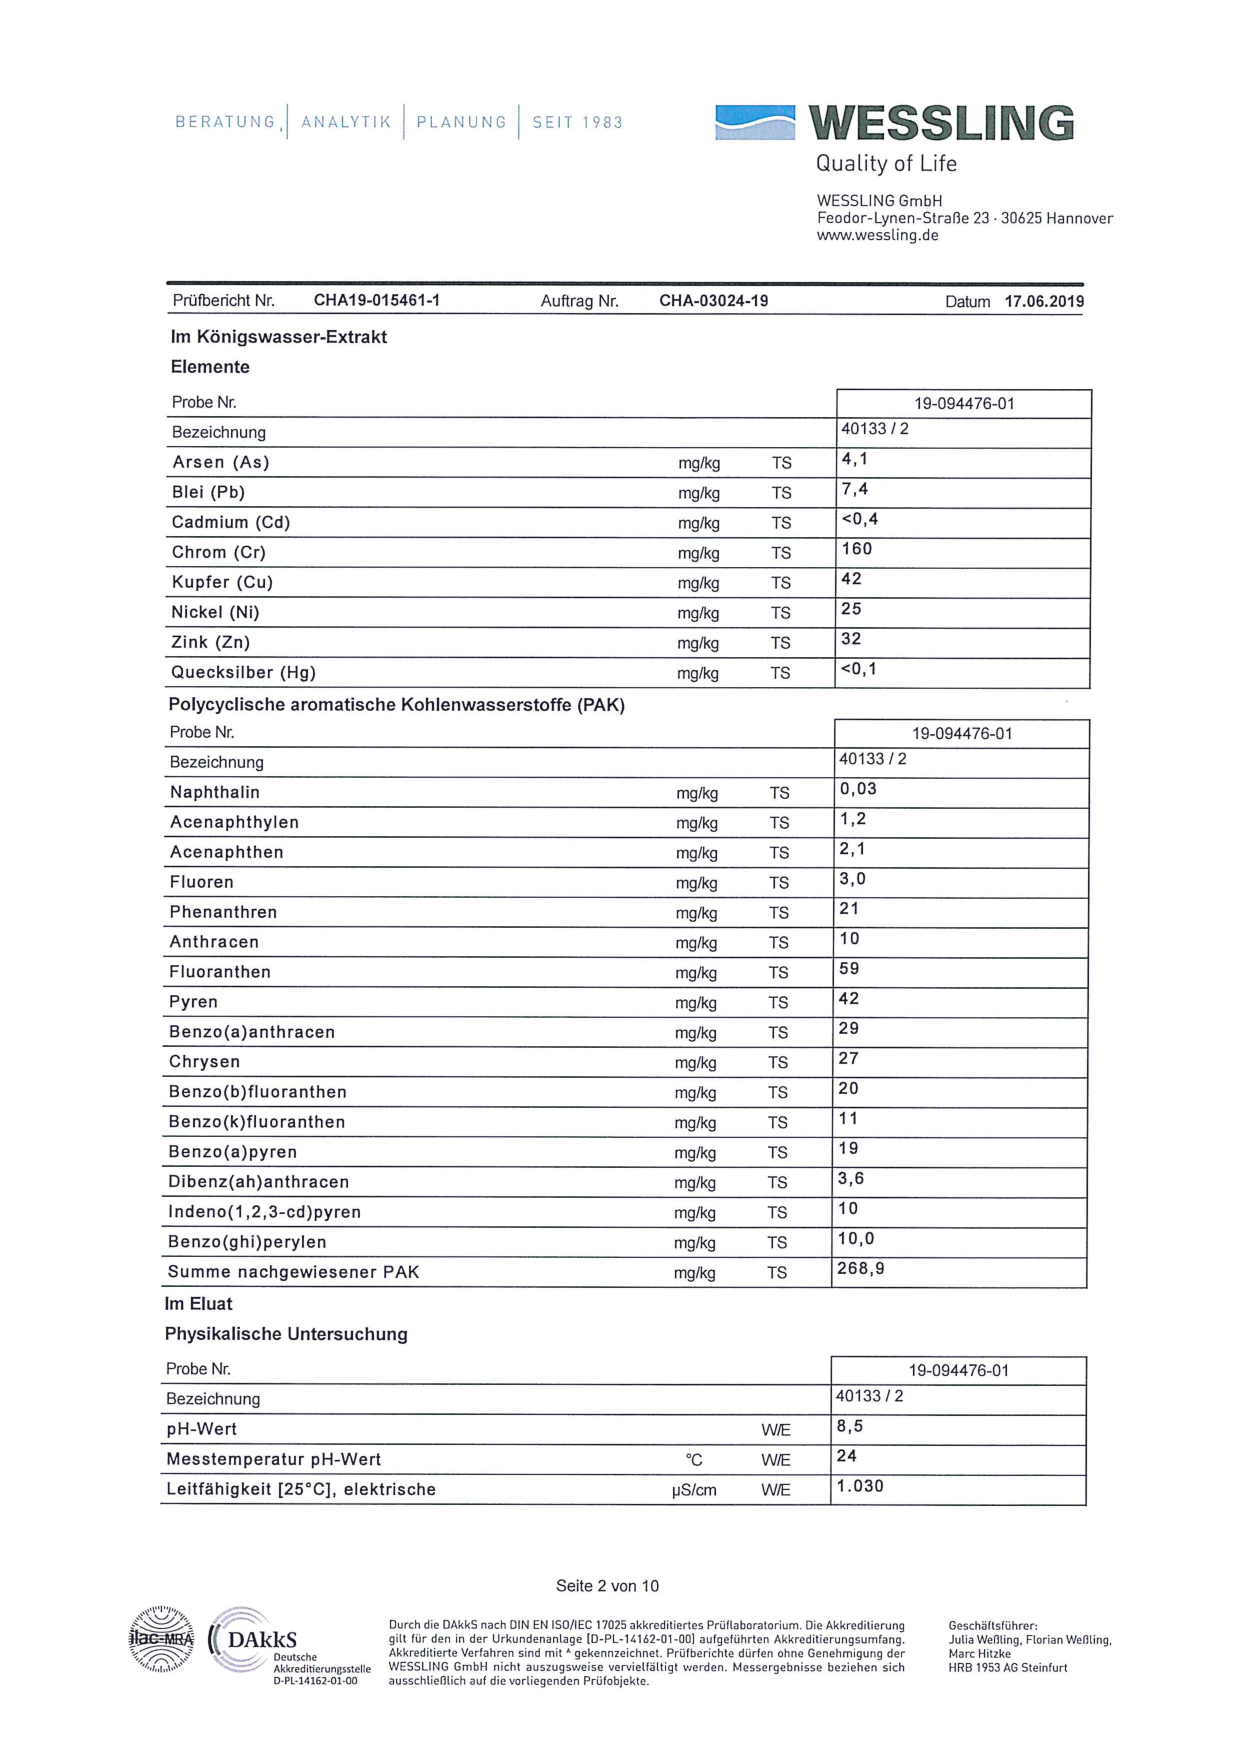table: (158, 717, 1096, 1292), (153, 378, 1094, 688), (149, 1347, 1115, 1523)
